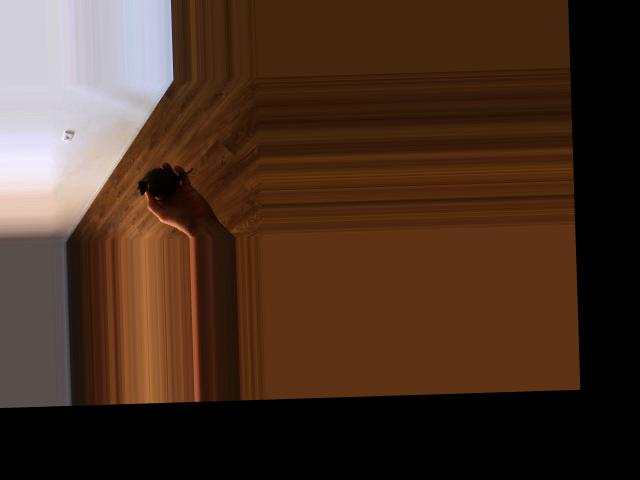beet: (137, 165, 193, 200)
